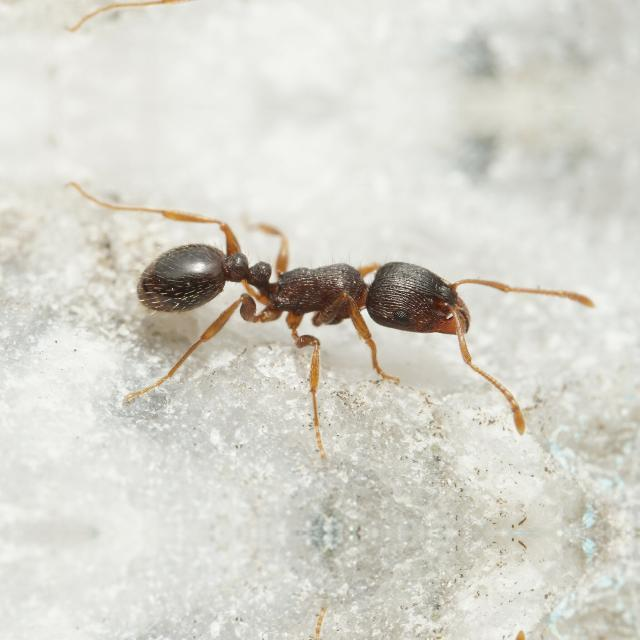Tetramorium: (58, 170, 542, 400)
